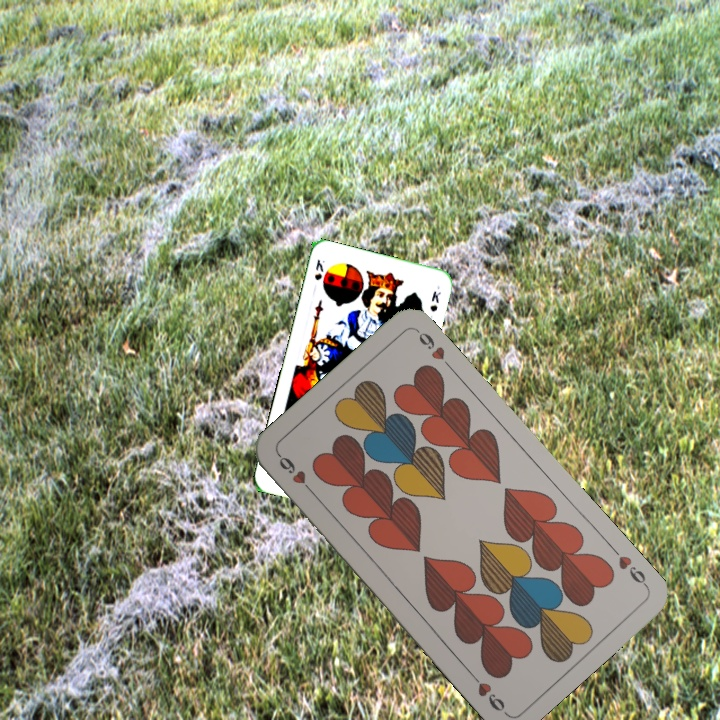H9: (274, 450, 318, 498), (614, 551, 651, 590)
SK: (310, 255, 327, 283)
